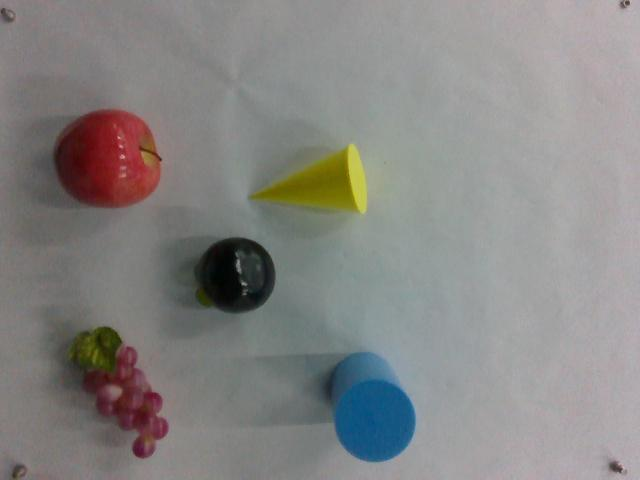apple: (50, 107, 163, 211)
cone: (249, 139, 372, 217)
cylinder: (326, 352, 419, 465)
grape: (69, 324, 166, 462)
mangosteen: (195, 237, 275, 315)
